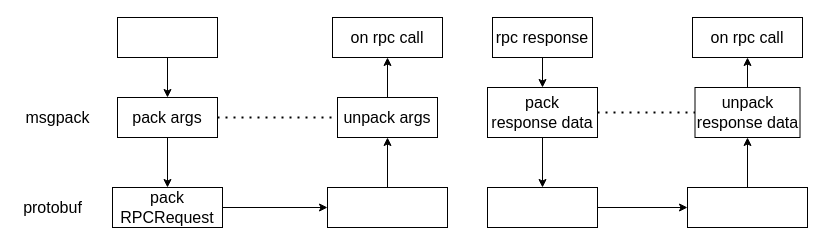
This 825x245 diagram has some shape labels left out. The shapes that lost their labels are listed below. From the top down, each one's centre as x and y in pixels, then its label:
the point at 167,37: send client
the point at 387,207: unpack RPCRequest
the point at 542,207: pack RPCResponse
the point at 747,207: unpack RPCResponse
